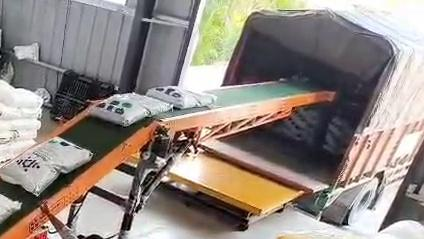box: (0, 137, 92, 196), (91, 93, 172, 126), (146, 85, 216, 109), (0, 194, 20, 222)
